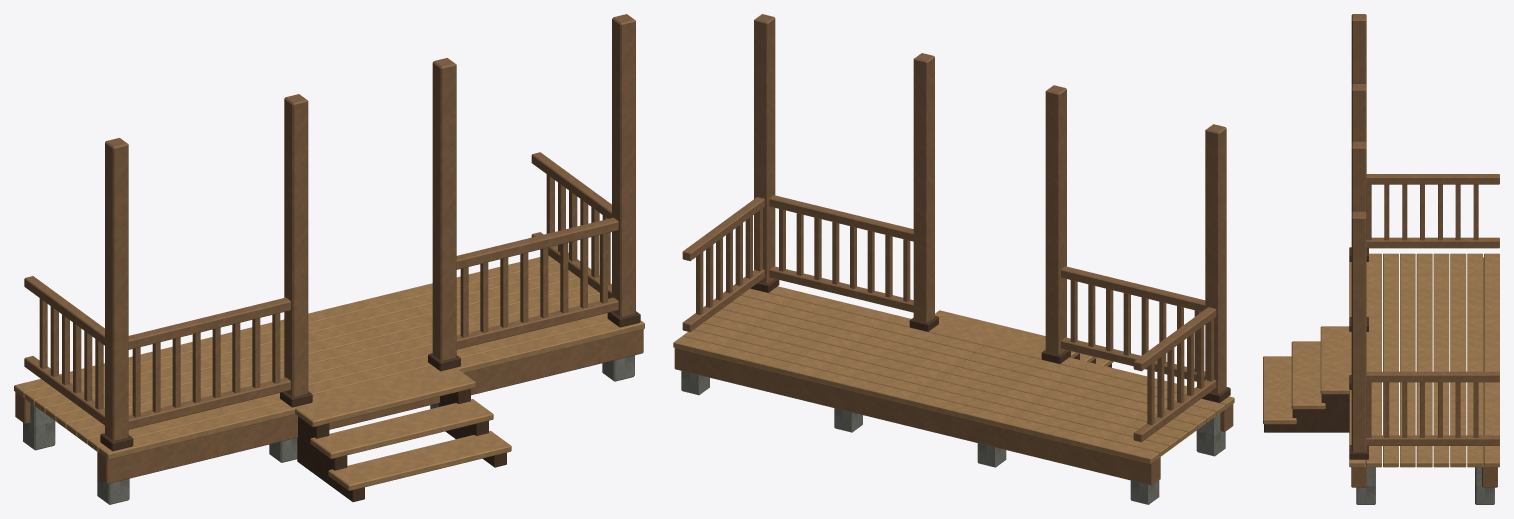
Rendered from cabin_porch.glb.
3 views of the same model, side by side, from view 1: azimuth 30°, elevation 25°; view 2: azimuth 150°, elevation 25°; view 3: azimuth 270°, elevation 25° (orthographic). The views are drawn at different scales.
Parts seen in each view (by area): view 1: Porch; view 2: Porch; view 3: Porch.
Boxes of the visible parts, x1=… form: Porch: x1=14, y1=14, x2=644, y2=504; Porch: x1=673, y1=14, x2=1234, y2=504; Porch: x1=1263, y1=14, x2=1499, y2=504.
Bounding box in the file's own units: 5 × 3.2 × 2.39.
Materials: 4 (4 with a texture image).
